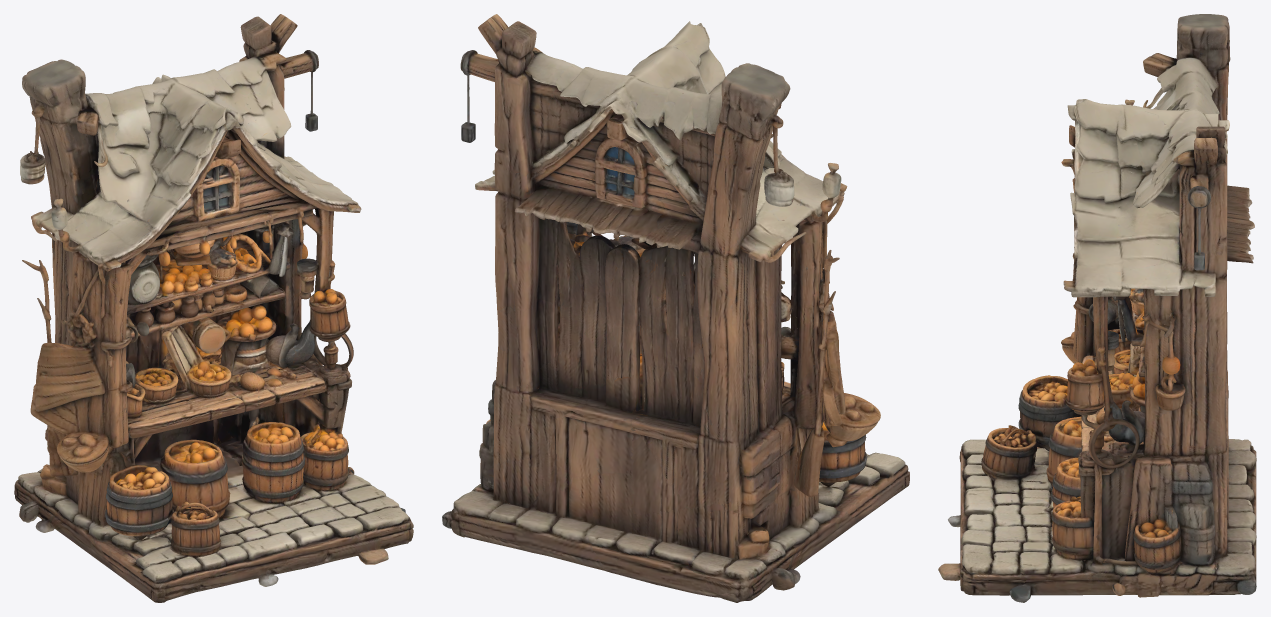
File: lib_stall_timber.hd.glb
3 renders of one model, left to right at view 1: azimuth 30°, elevation 25°; view 2: azimuth 150°, elevation 25°; view 3: azimuth 270°, elevation 25°, orthographic. The views are drawn at different scales.
Size of the model in its own units: 1.39 by 1.9 by 1.19.
1 material, 1 textured.
